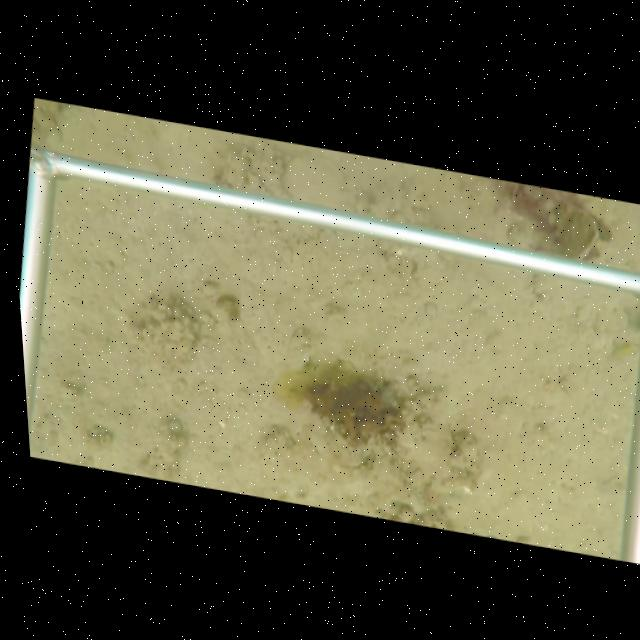Oyster-Indeterminate: (280, 158, 358, 212), (144, 315, 202, 365), (555, 208, 602, 262)
